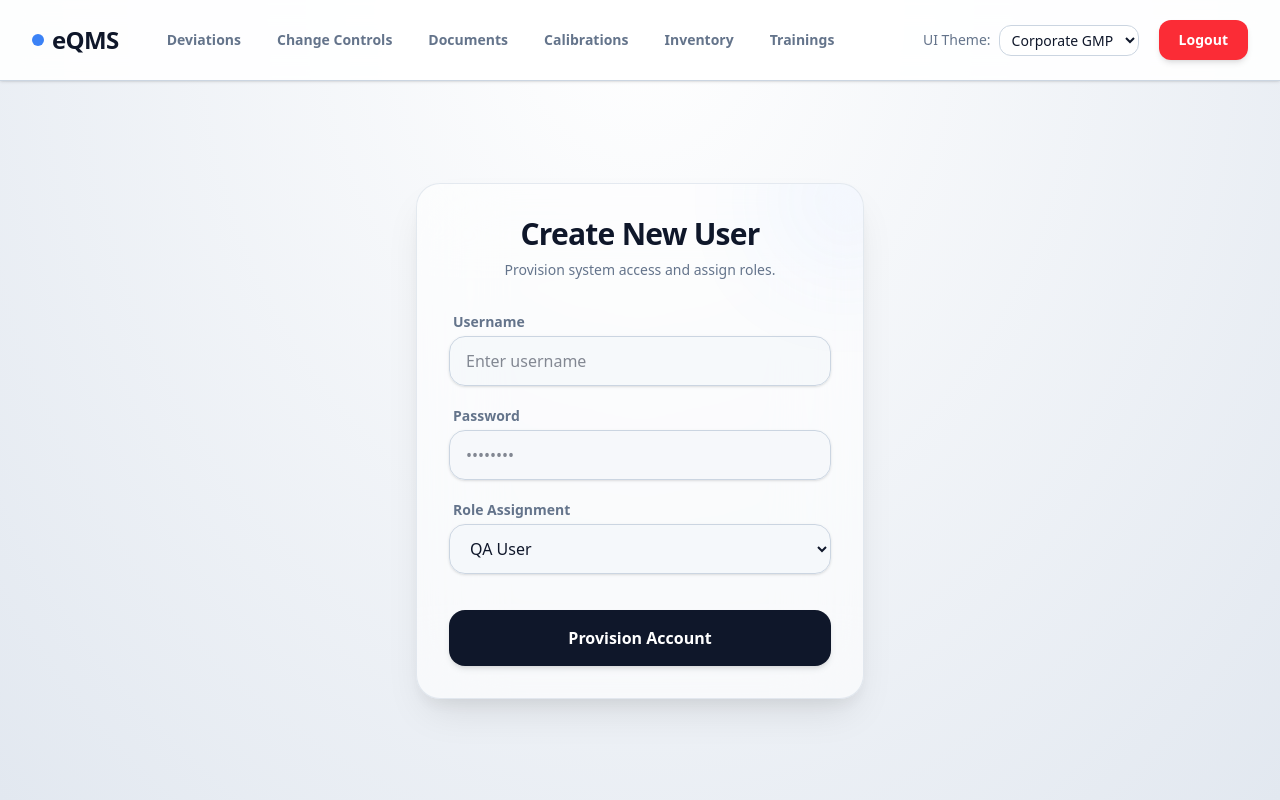
Test: User Registration Page › Authenticated Admin State › should display an error banner if the API rejects the registration (e.g., username taken)
Note: Fill out the form
In the field with placeholder "Enter username": (640, 361) left=449, top=336, right=831, bottom=386, type "existing_admin"
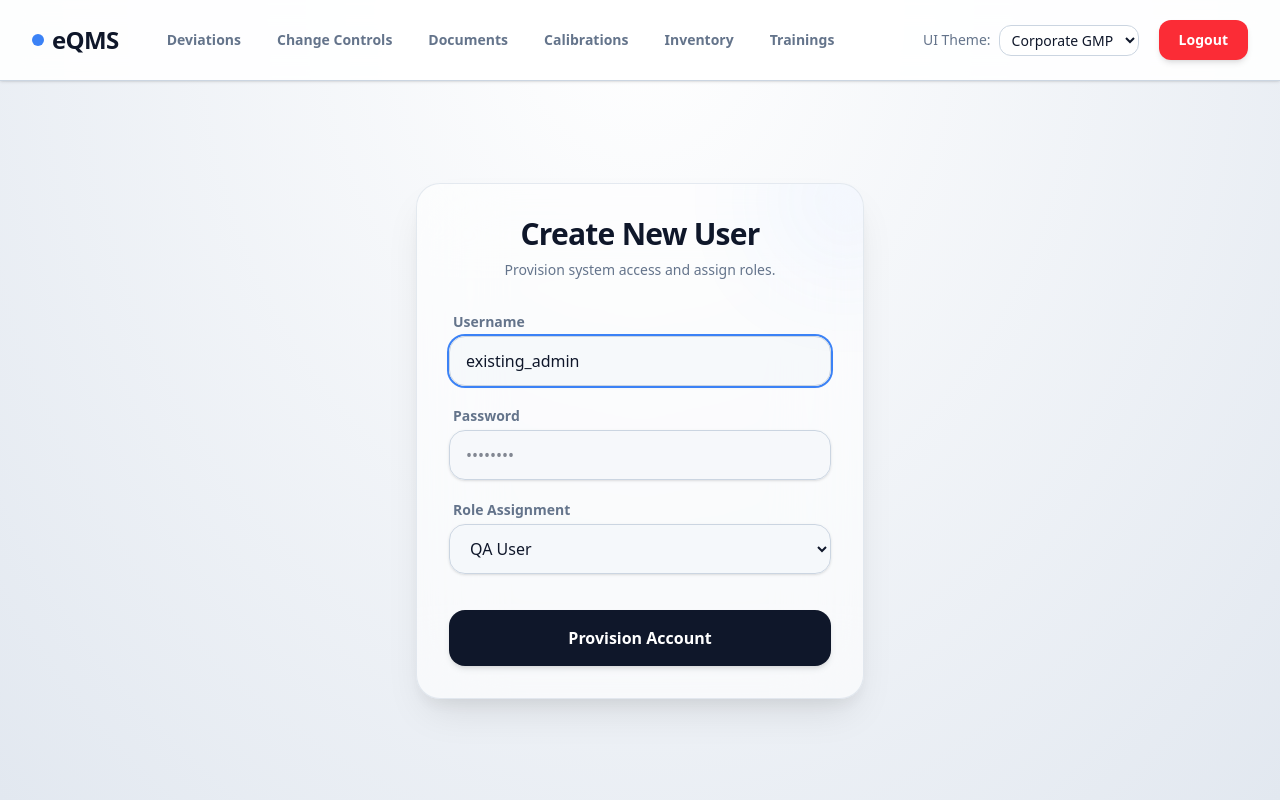
In the password field with placeholder "••••••••": (640, 455) left=449, top=430, right=831, bottom=480, type "password123"
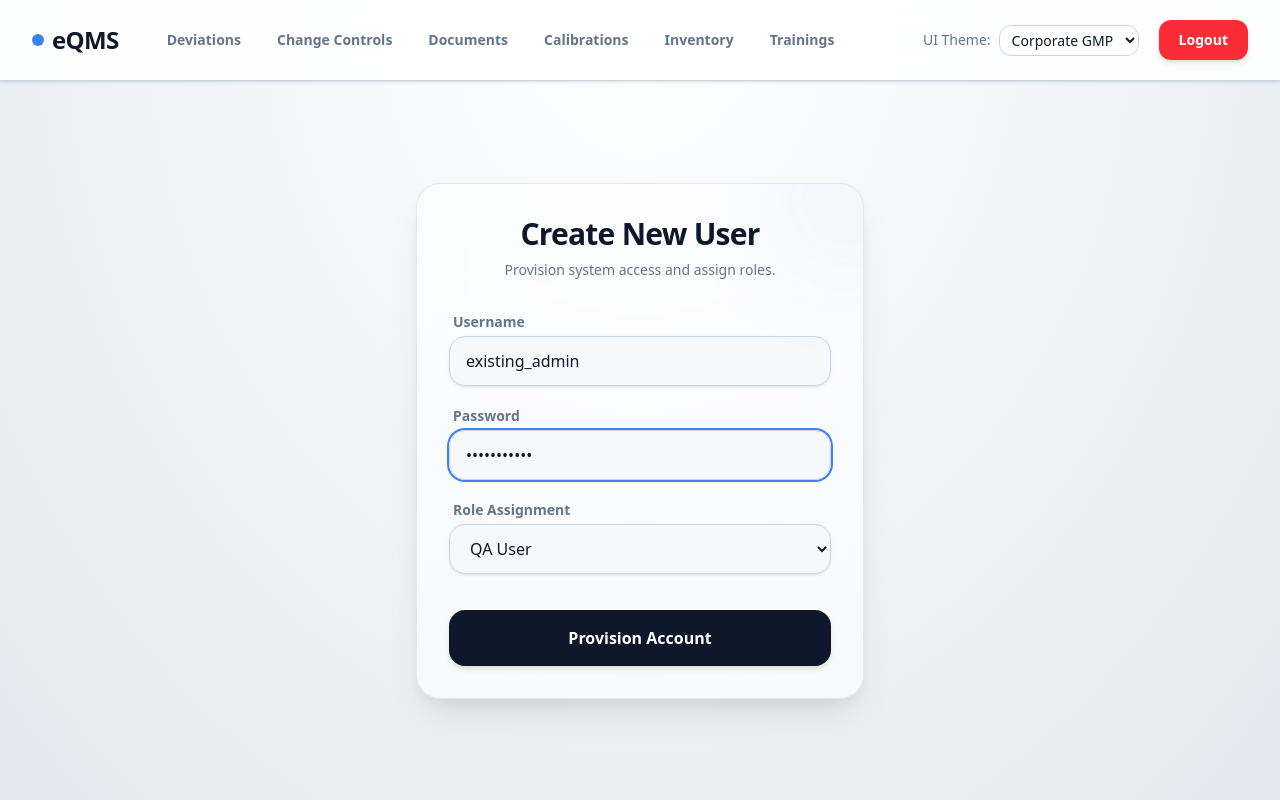
Select "System Administrator" in the dropdown below "Role Assignment": (640, 549) left=449, top=524, right=831, bottom=574
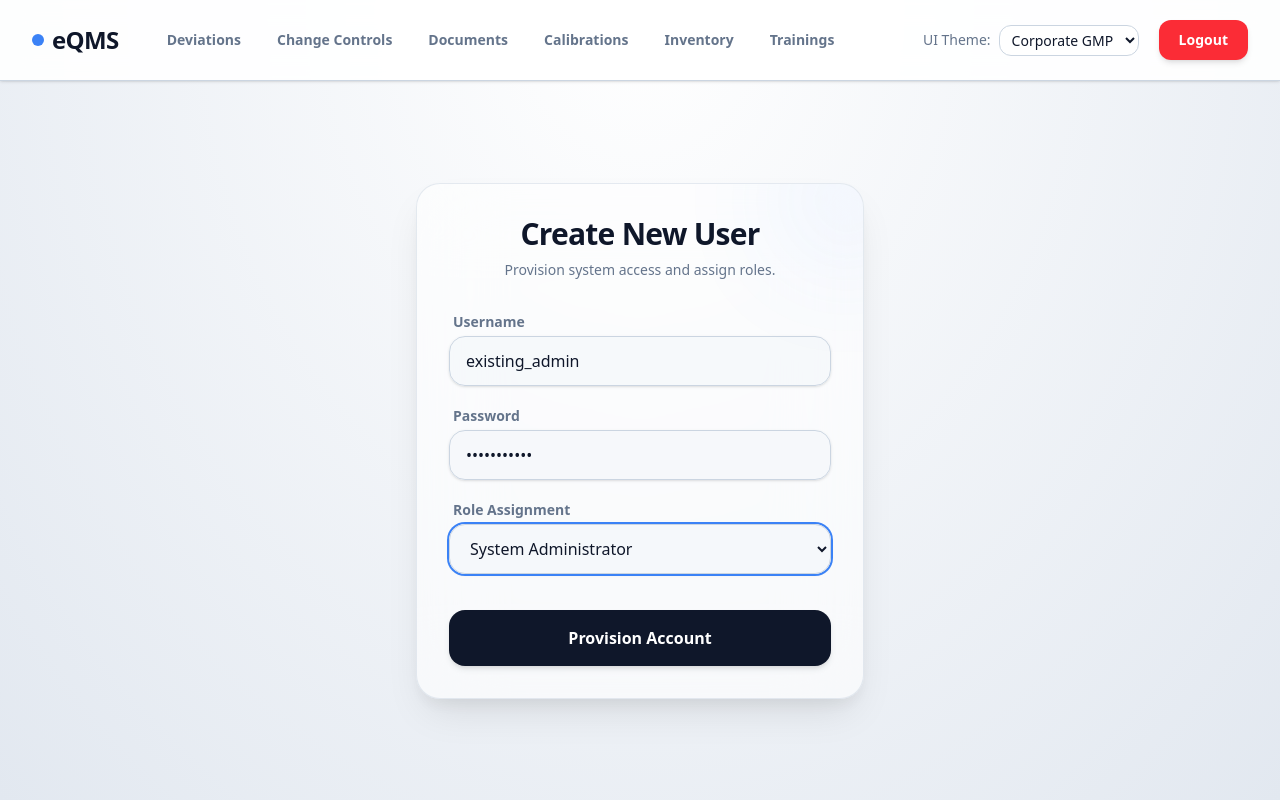
Note: Submit the form
Click the button "Provision Account": (640, 638) left=449, top=610, right=831, bottom=666
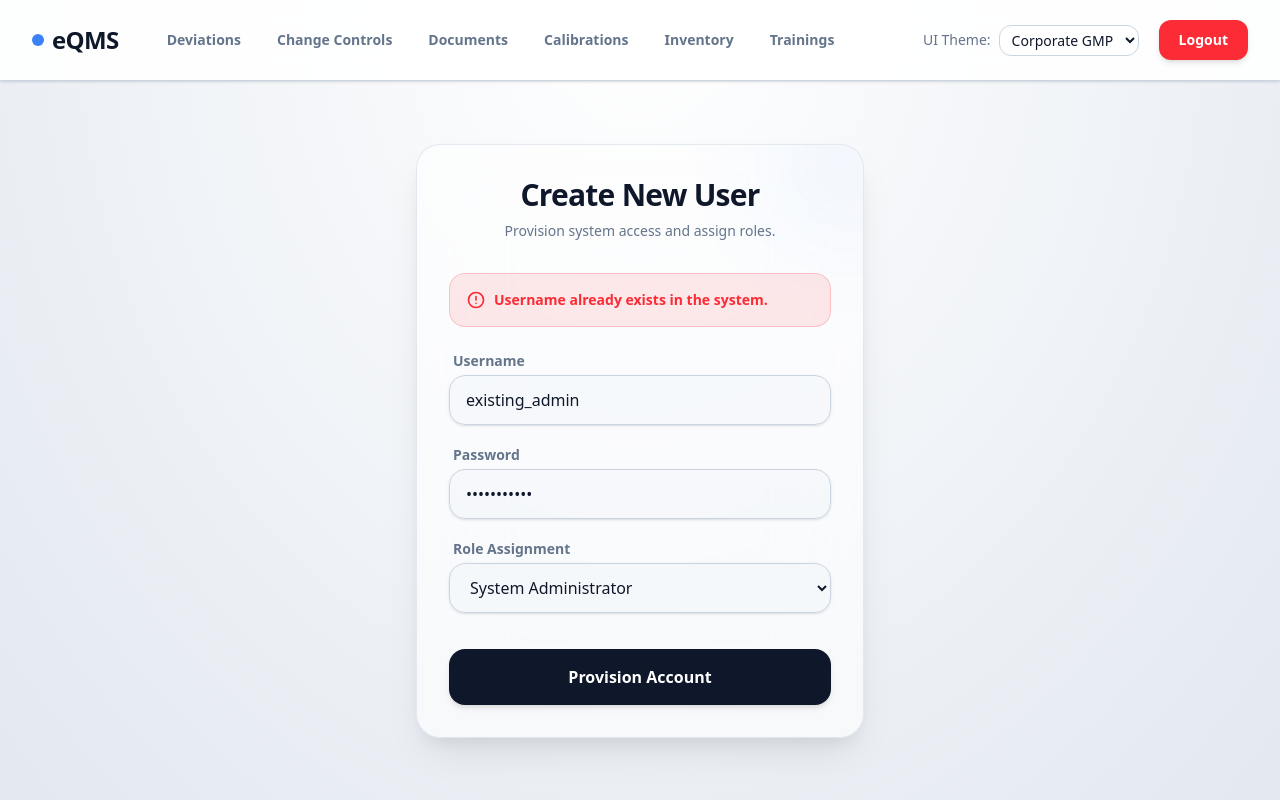
Expected: the text "Username already exists in the system." is shown, left=449, top=273, right=831, bottom=327
